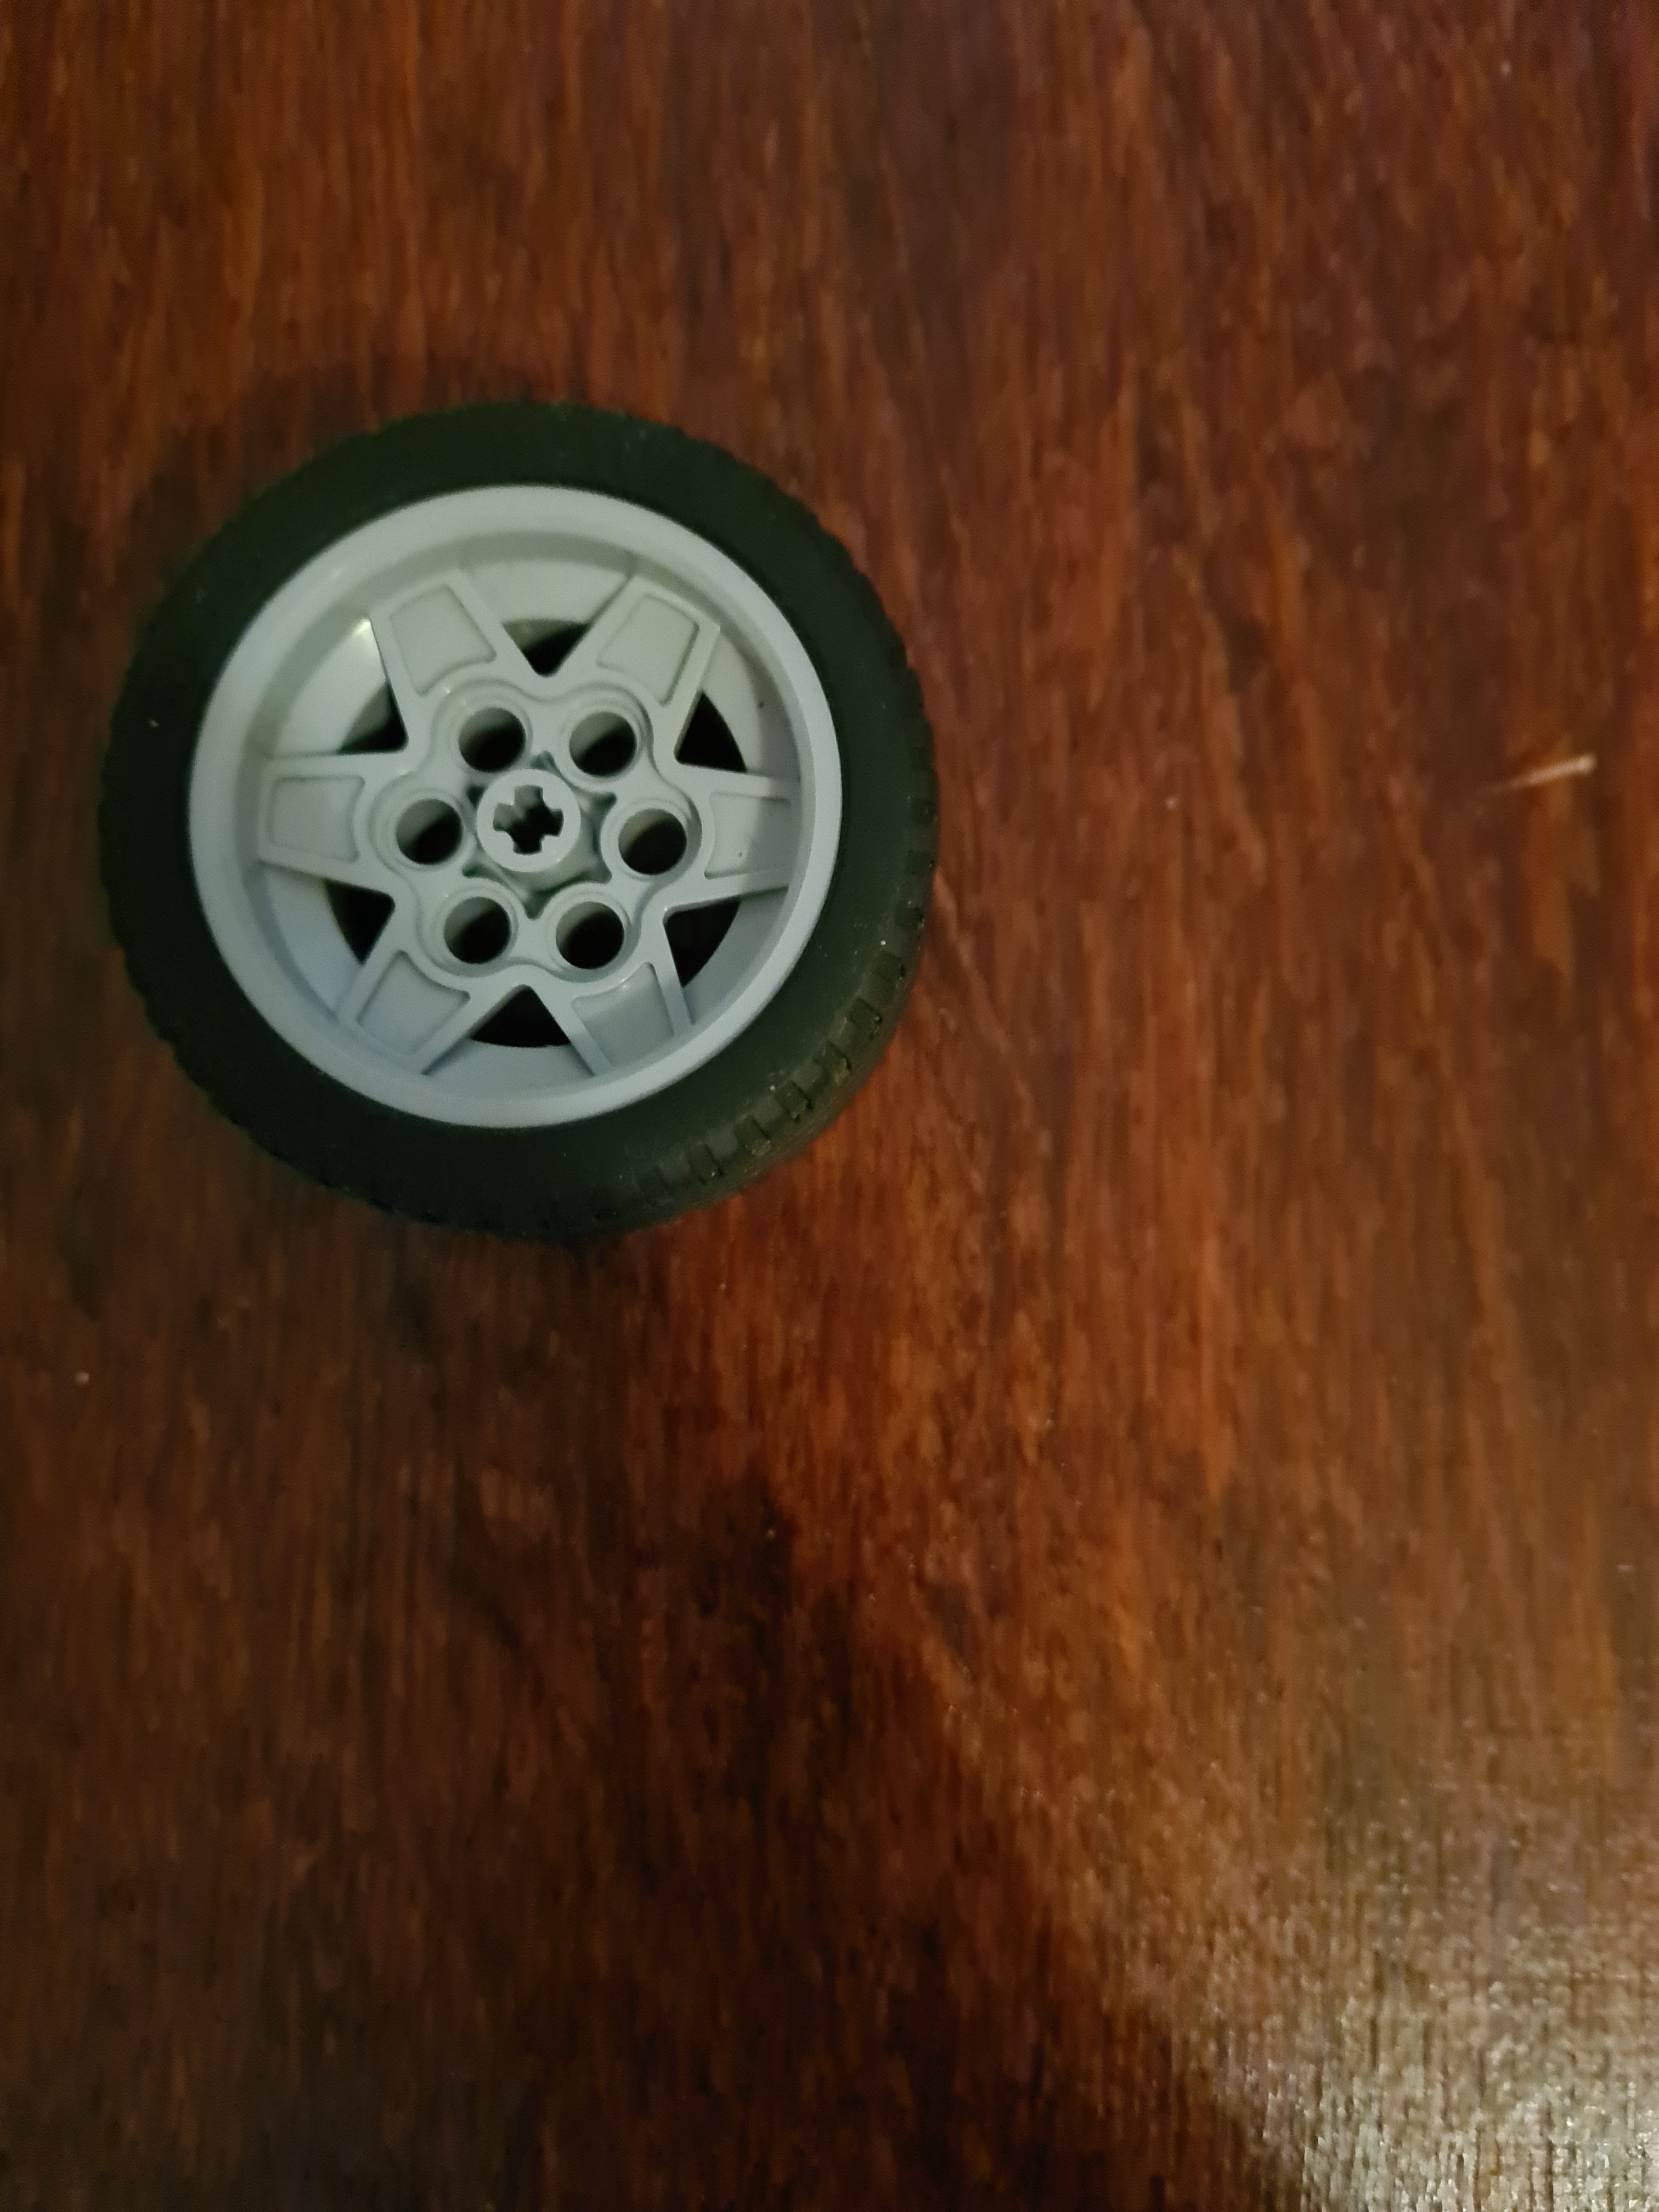Rad: (94, 395, 950, 1245)
